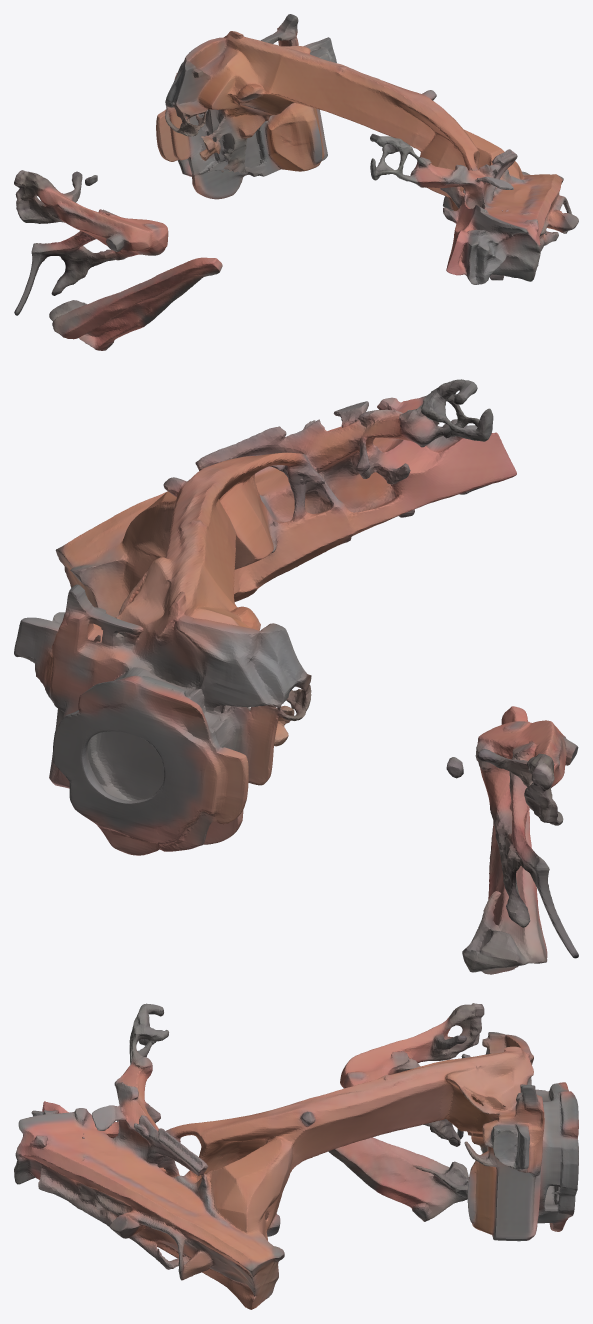
Rendered from entity-robot-photo-1.glb.
3 views of the same model, one above another, from view 1: azimuth 30°, elevation 25°; view 2: azimuth 150°, elevation 25°; view 3: azimuth 270°, elevation 25° (orthographic). The views are drawn at different scales.
Parts seen in each view (by area): view 1: geometry_0; view 2: geometry_0; view 3: geometry_0.
Boxes of the visible parts, <box> form: geometry_0: <box>14,14,578,350</box>; geometry_0: <box>14,379,578,974</box>; geometry_0: <box>14,1003,578,1309</box>.
Size of the model in its own units: 4.08 by 2.35 by 4.11.
